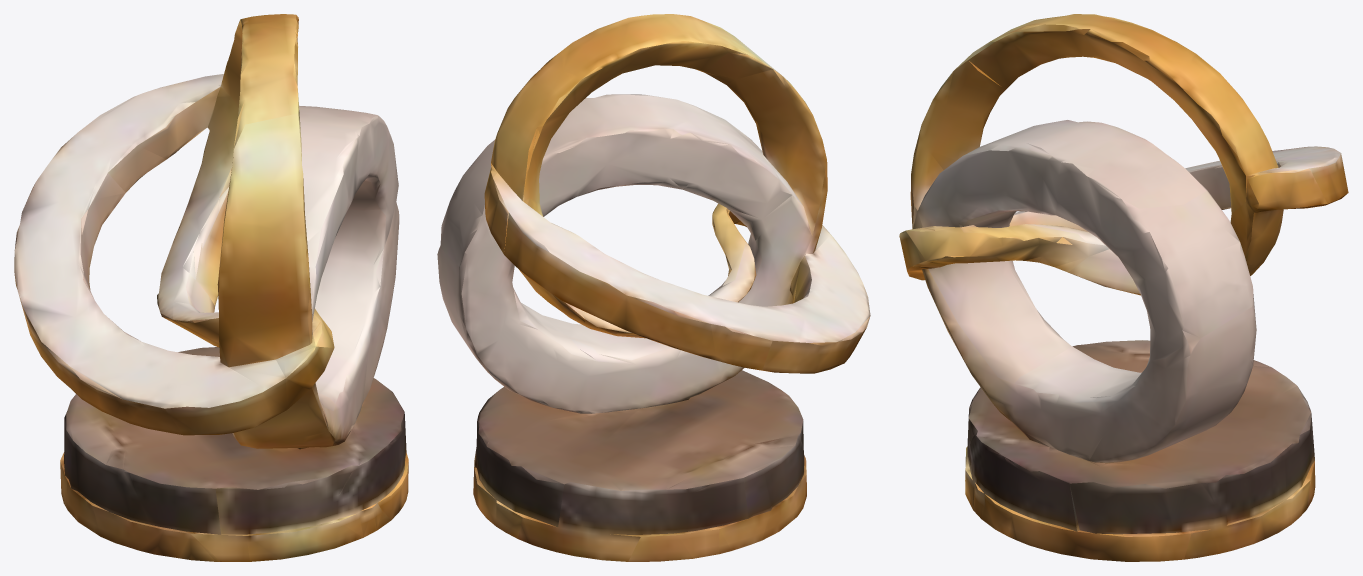
Rendered from deco25.glb.
3 renders of one model, left to right at view 1: azimuth 30°, elevation 25°; view 2: azimuth 150°, elevation 25°; view 3: azimuth 270°, elevation 25°, orthographic. The views are drawn at different scales.
Size of the model in its own units: 0.217 by 0.2512 by 0.2147.
Materials: 1 (1 with a texture image).
